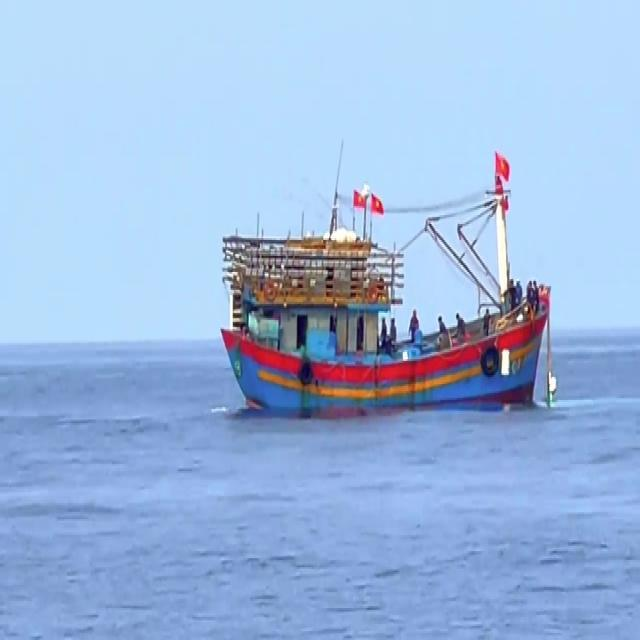Ship: (213, 178, 553, 426)
